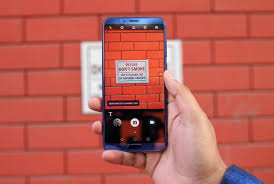camera: (130, 118, 139, 129)
